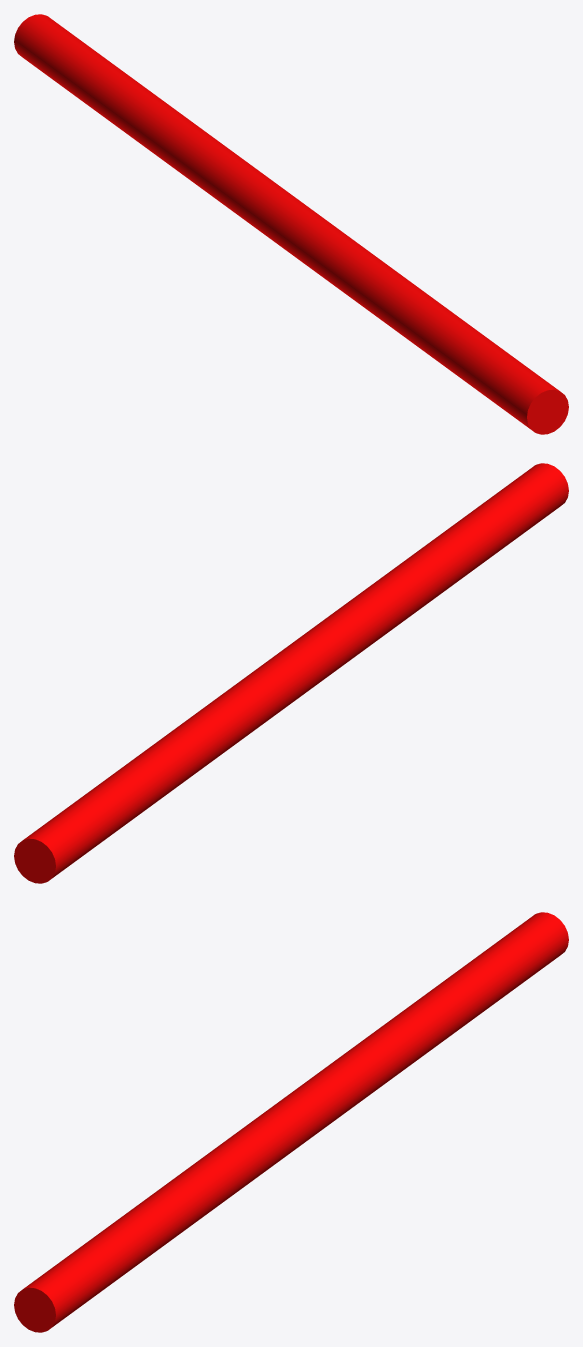
File: laser01.obj
3 renders of one model, top to bottom at view 1: azimuth 30°, elevation 25°; view 2: azimuth 150°, elevation 25°; view 3: azimuth 330°, elevation 25°, orthographic.
Parts seen in each view (by area): view 1: pCylinder1; view 2: pCylinder1; view 3: pCylinder1.
Part boxes in pixels (<box>): pCylinder1: <box>14,14,568,434</box>; pCylinder1: <box>14,463,568,883</box>; pCylinder1: <box>14,912,568,1332</box>.
Size of the model in its own units: 0.575 by 0.575 by 12.14.
Materials: 1 (1 with a texture image).
